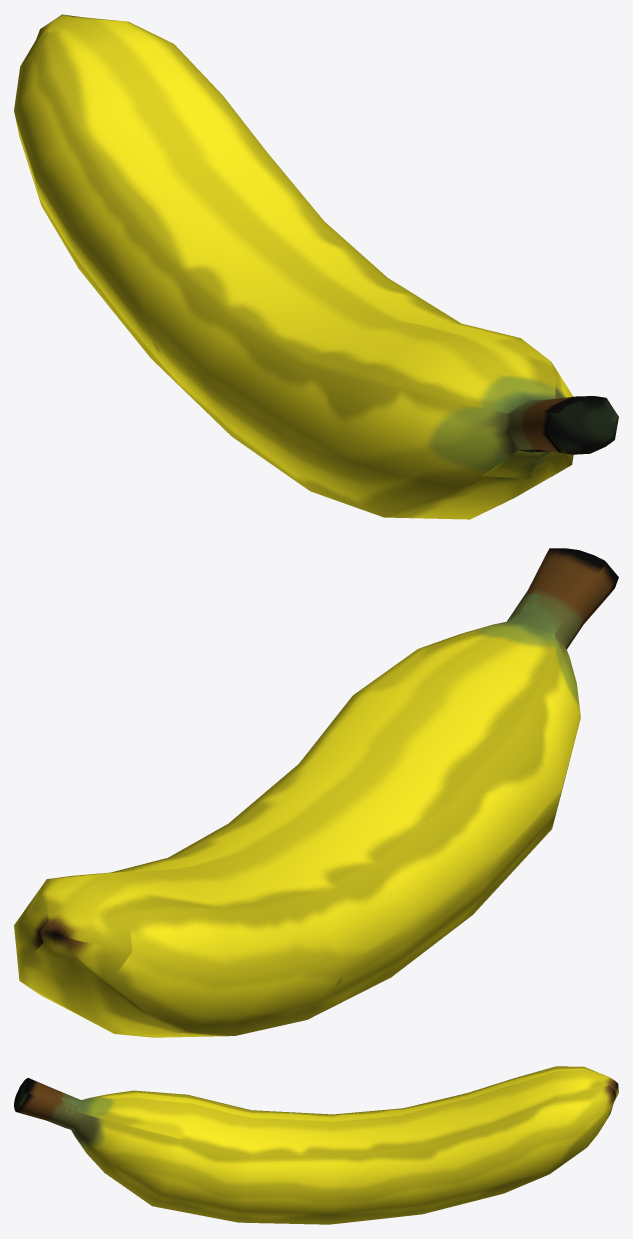
File: BananaBoard.fbx
3 views of the same model, one above another, from view 1: azimuth 30°, elevation 25°; view 2: azimuth 150°, elevation 25°; view 3: azimuth 270°, elevation 25° (orthographic). The views are drawn at different scales.
Parts seen in each view (by area): view 1: Mesh.002; view 2: Mesh.002; view 3: Mesh.002.
Part boxes in pixels (x1=…): Mesh.002: x1=14, y1=14, x2=618, y2=519; Mesh.002: x1=14, y1=548, x2=618, y2=1037; Mesh.002: x1=14, y1=1066, x2=618, y2=1224.
Bounding box in the file's own units: 49.83 × 54.87 × 212.
Materials: 1 (1 with a texture image).
